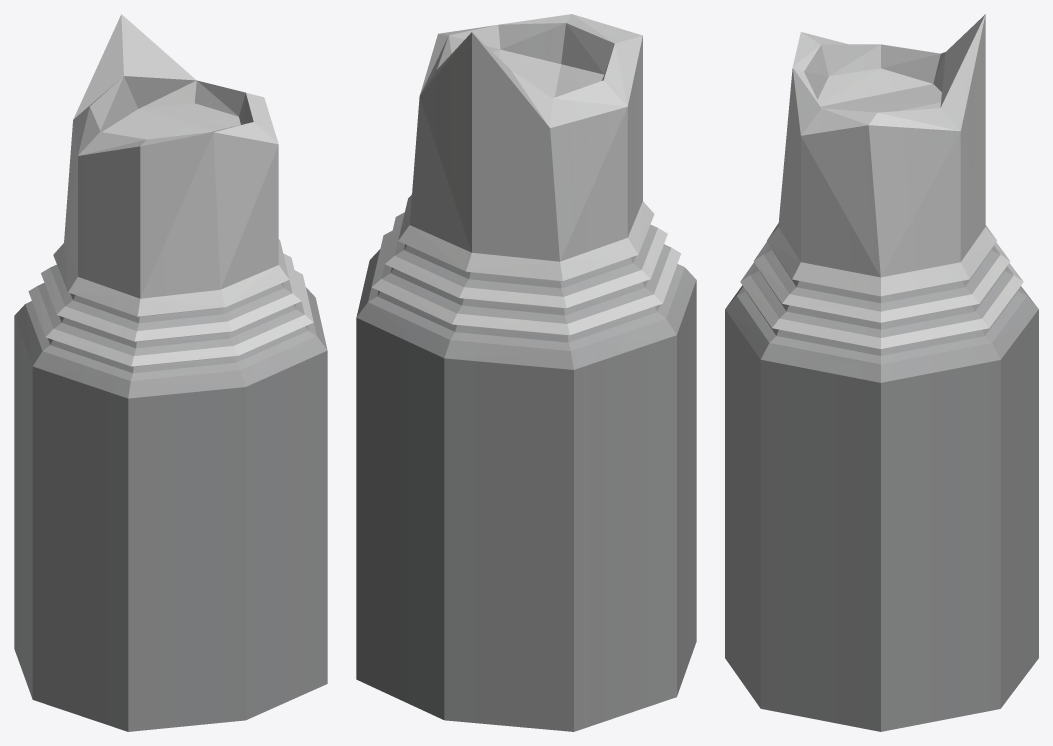
File: gas_station_column_A.obj
3 views of the same model, side by side, from view 1: azimuth 30°, elevation 25°; view 2: azimuth 150°, elevation 25°; view 3: azimuth 270°, elevation 25° (orthographic). The views are drawn at different scales.
Parts seen in each view (by area): view 1: gas_station_column_A_Mesh; view 2: gas_station_column_A_Mesh; view 3: gas_station_column_A_Mesh.
Part boxes in pixels (x1=…): gas_station_column_A_Mesh: x1=14, y1=14, x2=327, y2=731; gas_station_column_A_Mesh: x1=356, y1=14, x2=696, y2=731; gas_station_column_A_Mesh: x1=725, y1=14, x2=1038, y2=731.
Size of the model in its own units: 0.7757 by 1.61 by 0.7113.
